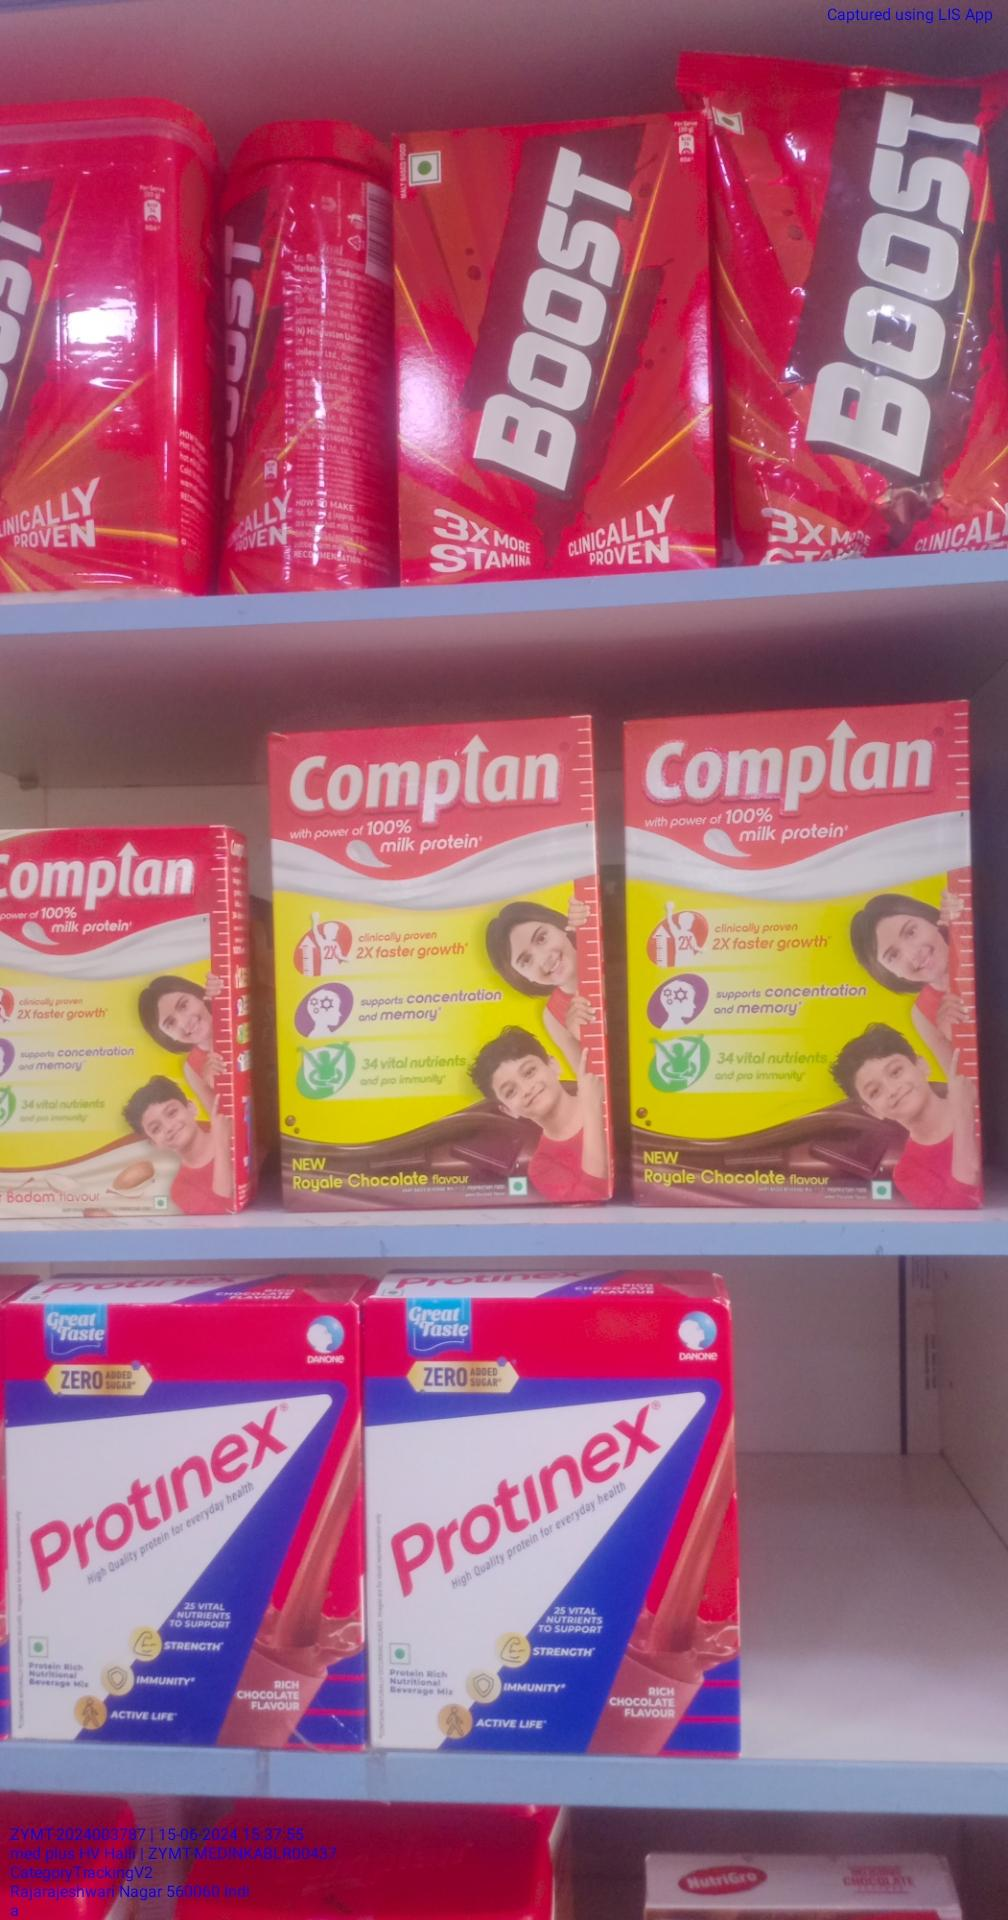COMPLAN_CHOCOLATE_500_GMS_PACK: (623, 716, 983, 1210), (267, 720, 606, 1208)
COMPLAN_KESAR_BADAM_200_GMS_PACK: (1, 823, 232, 1217)
